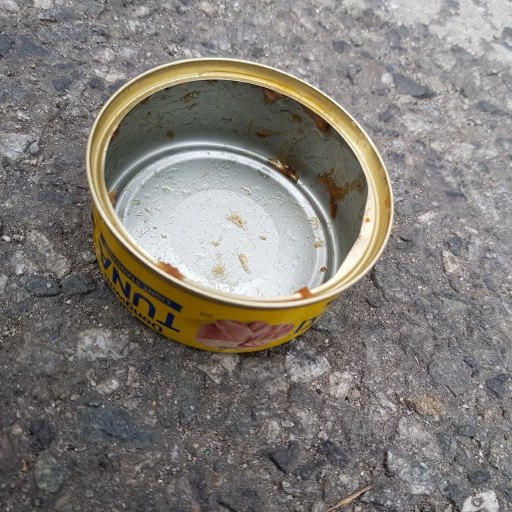Metal_1: (85, 54, 397, 354)
